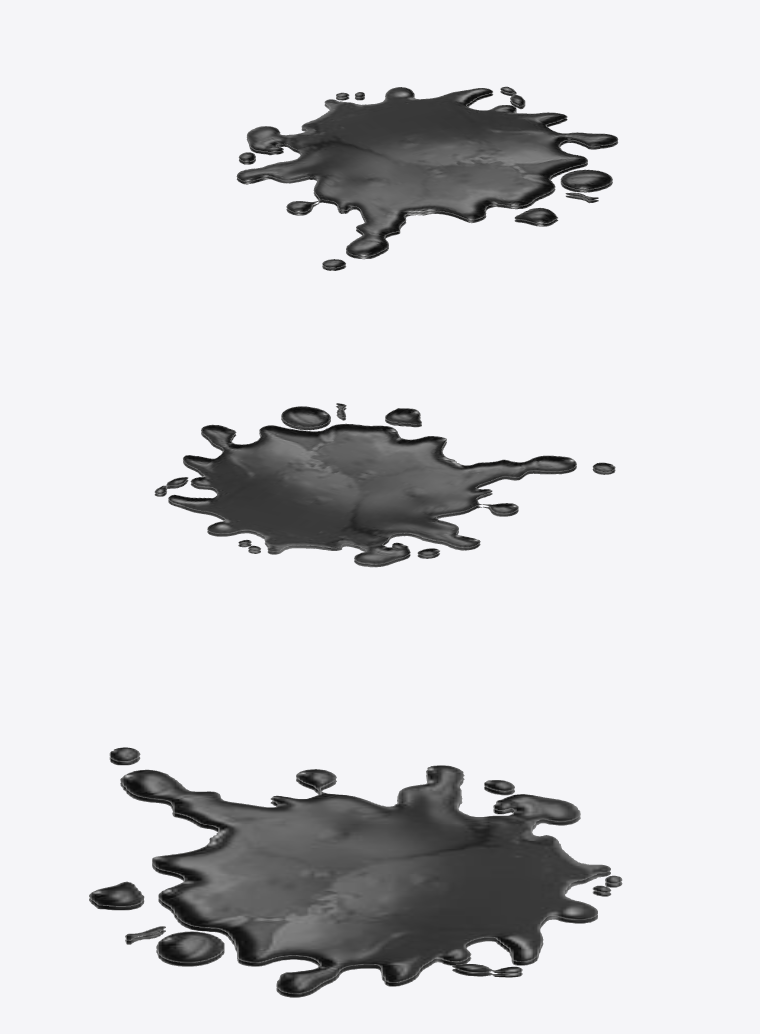
File: OilPatchPlane.FBX
The picture shows the model from 3 angles, top to bottom: view 1: azimuth 30°, elevation 25°; view 2: azimuth 150°, elevation 25°; view 3: azimuth 270°, elevation 25°; orthographic projection. The views are drawn at different scales.
Visible parts, largest first — view 1: Plane001; view 2: Plane001; view 3: Plane001.
Part boxes in pixels (box(x1,y1,x2,y2)): Plane001: box(236, 86, 618, 270); Plane001: box(154, 403, 615, 567); Plane001: box(89, 747, 622, 997).
Size of the model in its own units: 185 by 1 by 171.
1 material, 1 textured.
